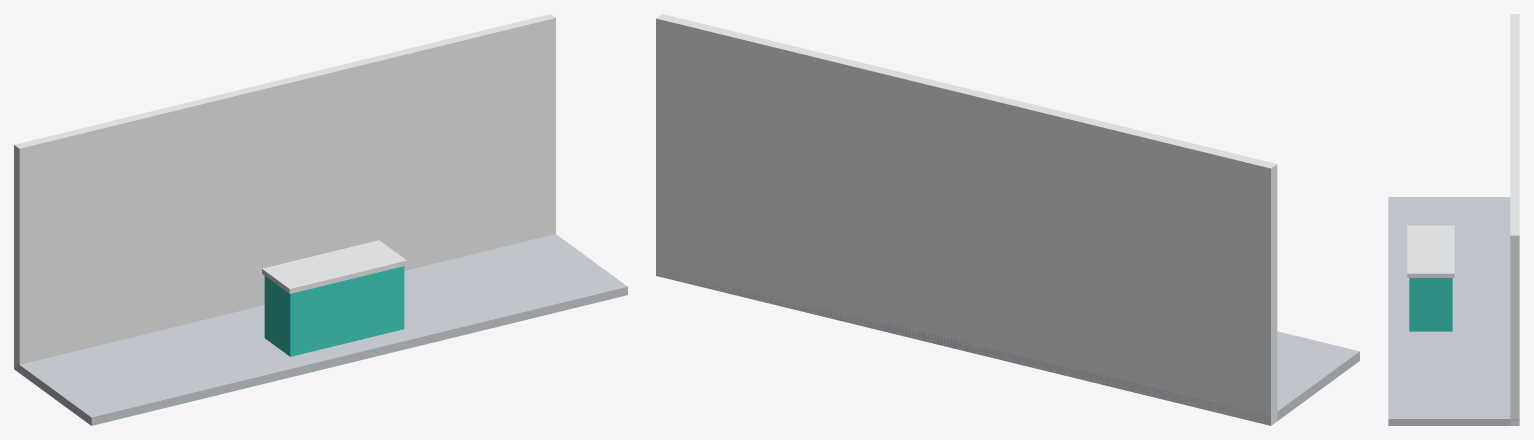
3 renders of one model, left to right at view 1: azimuth 30°, elevation 25°; view 2: azimuth 150°, elevation 25°; view 3: azimuth 270°, elevation 25°, orthographic. The views are drawn at different scales.
Parts seen in each view (by area): view 1: Exhibition Booth Concept; view 2: Exhibition Booth Concept; view 3: Exhibition Booth Concept.
Boxes of the visible parts, box(x1,y1,x2,y2) form: Exhibition Booth Concept: box(14, 14, 627, 425); Exhibition Booth Concept: box(656, 14, 1359, 425); Exhibition Booth Concept: box(1388, 14, 1519, 425).
Size of the model in its own units: 8 by 3.2 by 2.
